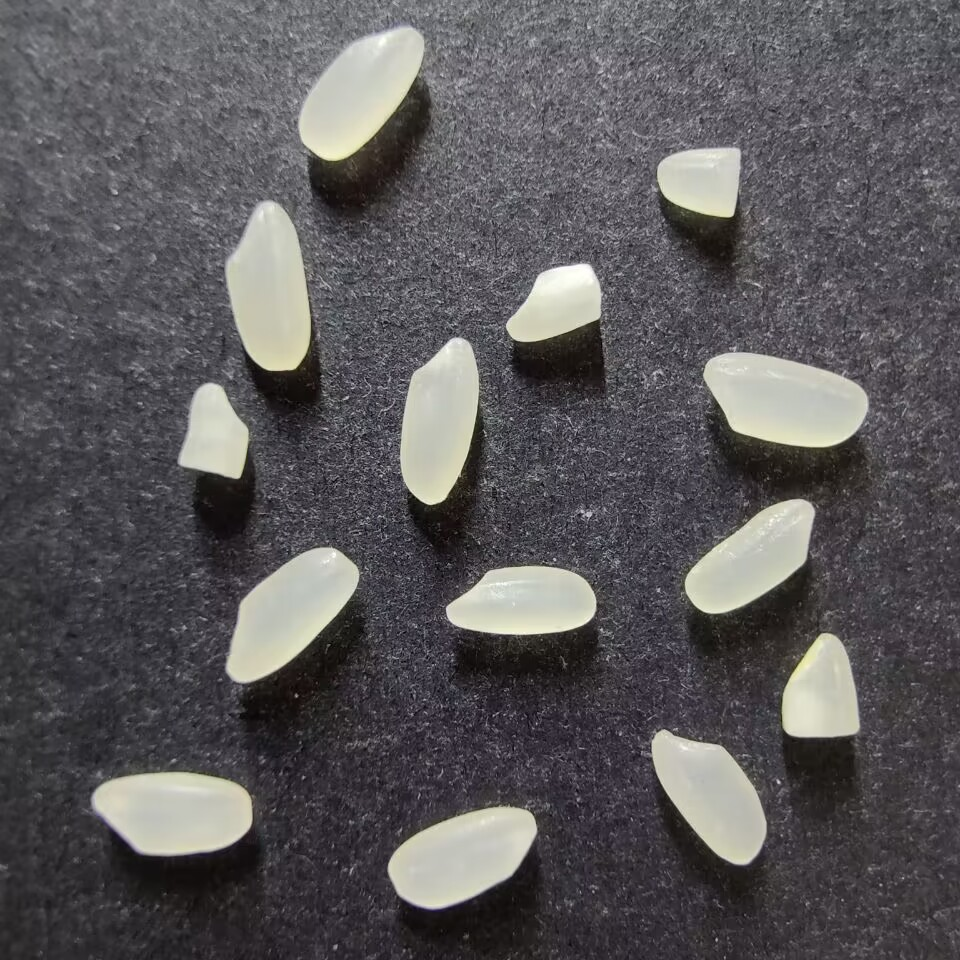broken: (780, 632, 860, 739), (504, 262, 602, 343), (177, 382, 250, 480), (656, 147, 743, 219)
rice: (224, 546, 359, 685), (298, 24, 424, 161), (702, 351, 868, 448), (650, 728, 767, 865), (387, 805, 536, 909), (684, 497, 816, 614), (224, 200, 311, 372), (398, 336, 480, 506), (90, 772, 253, 855), (445, 565, 596, 636)
